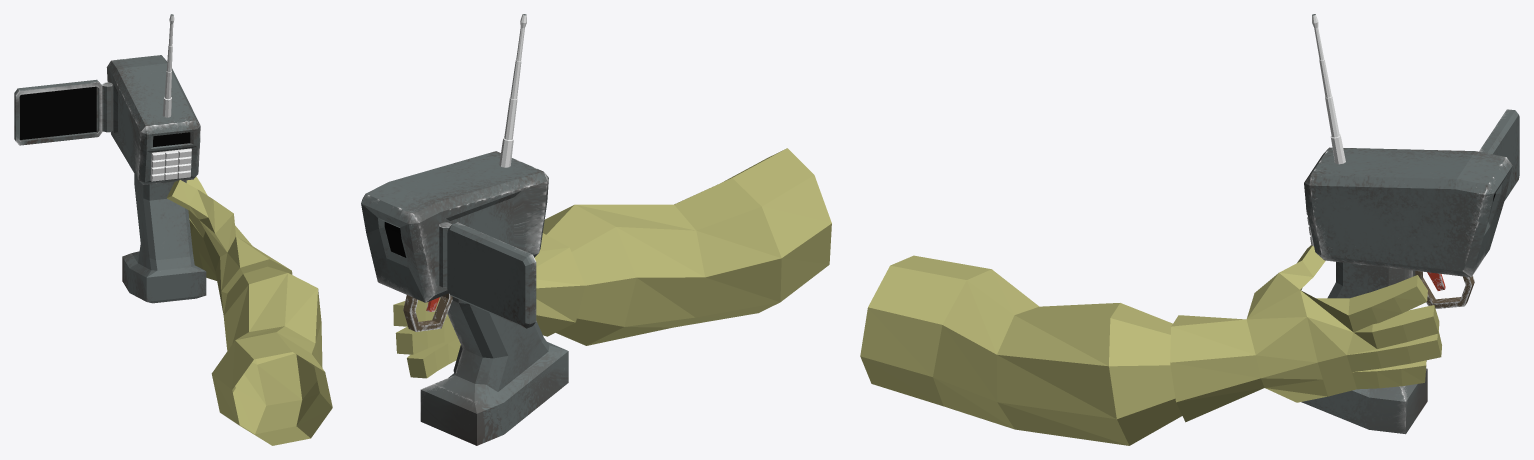
Rendered from Player_removed_arm.fbx.
3 renders of one model, left to right at view 1: azimuth 30°, elevation 25°; view 2: azimuth 150°, elevation 25°; view 3: azimuth 270°, elevation 25°, orthographic. The views are drawn at different scales.
Parts seen in each view (by area): view 1: Textured PVTM, polySurface1; view 2: polySurface1, Textured PVTM; view 3: polySurface1, Textured PVTM.
Part boxes in pixels (x1,y1,x2,y2): Textured PVTM: (14, 14, 206, 303); polySurface1: (167, 176, 332, 445); polySurface1: (393, 148, 831, 378); Textured PVTM: (361, 14, 568, 445); polySurface1: (860, 245, 1441, 445); Textured PVTM: (1301, 14, 1519, 434).
Size of the model in its own units: 55.08 by 102 by 147.
